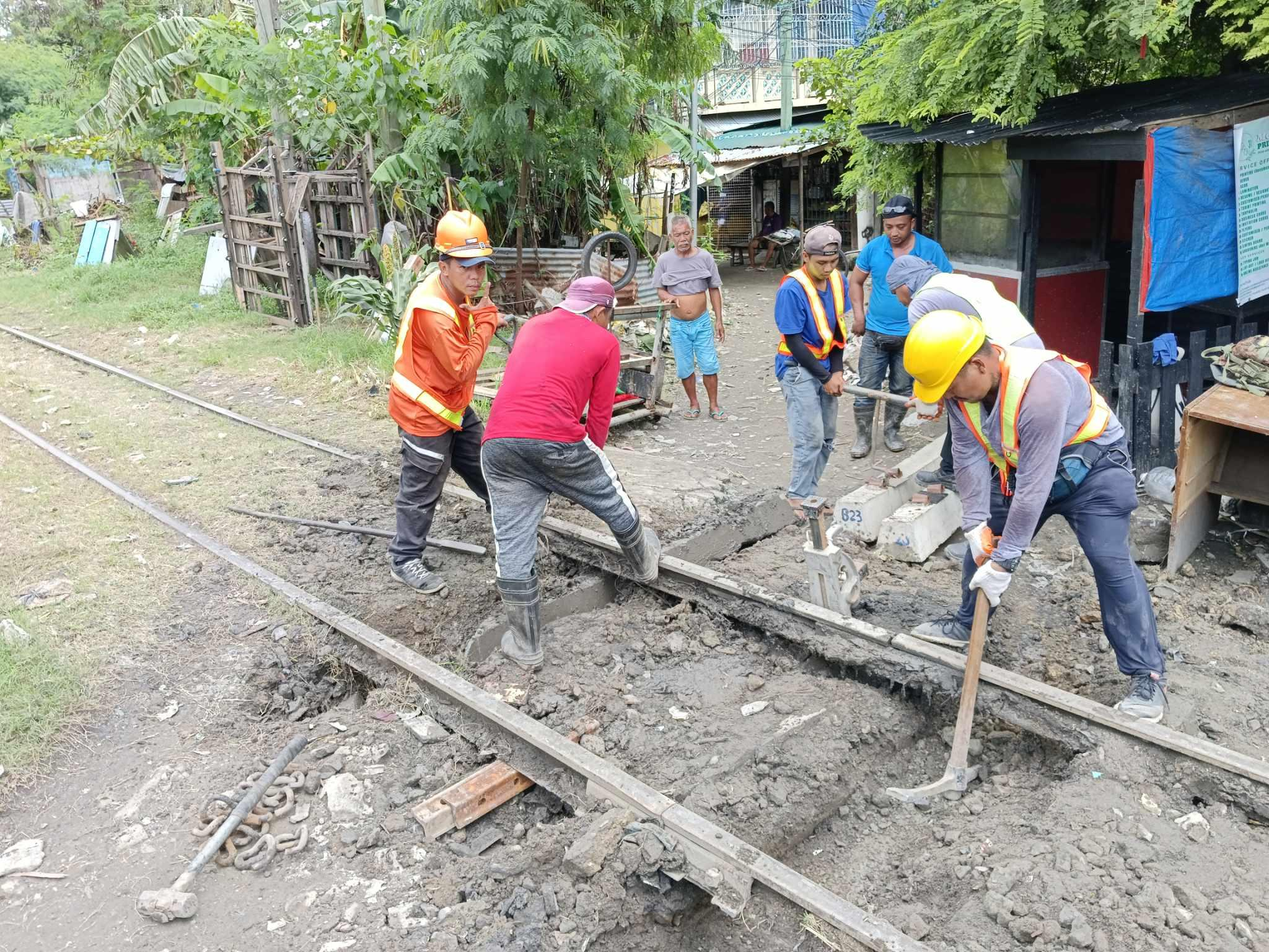railway-gap: (623, 759, 719, 859), (843, 597, 937, 685)
